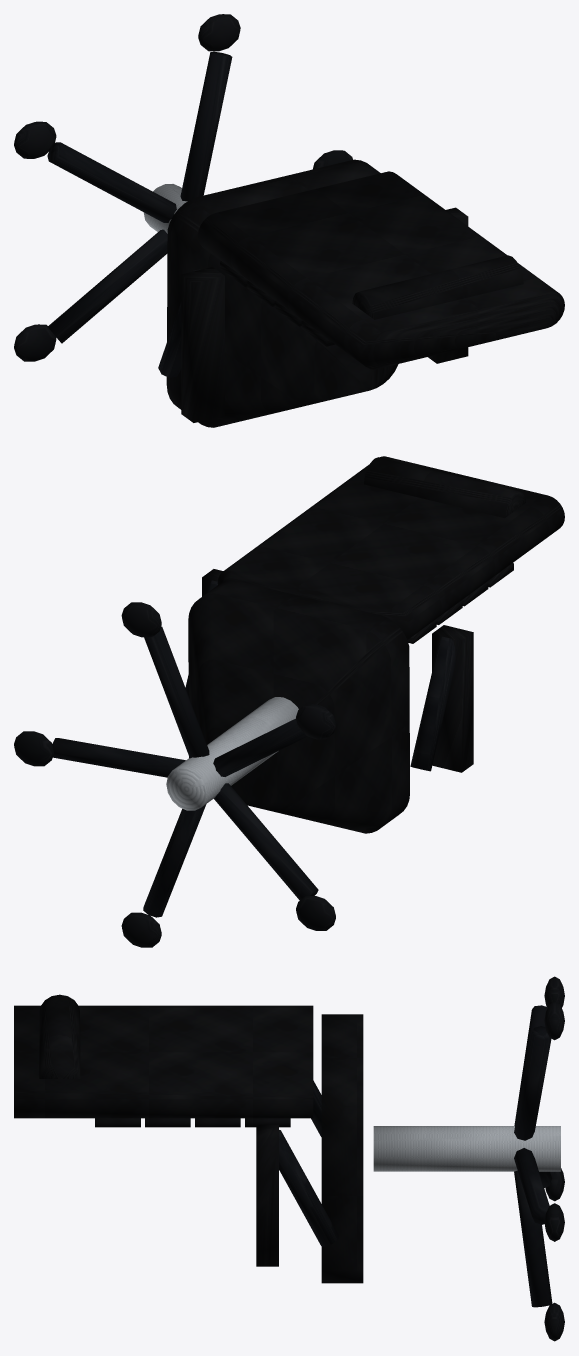
Rendered from CHAIR_EXECUTIVE_HIGHBACK_001.glb.
The picture shows the model from 3 angles, top to bottom: view 1: azimuth 30°, elevation 25°; view 2: azimuth 150°, elevation 25°; view 3: azimuth 270°, elevation 25°; orthographic projection. The views are drawn at different scales.
Visible parts, largest first — view 1: back_001, seat_000, armrest_014, headrest_017, star_base_005, star_base_009, star_base_007, caster_006, caster_008, caster_010, armrest_post_013, gas_lift_002 (+1 smaller); view 2: seat_000, back_001, gas_lift_002, headrest_017, armrest_014, star_base_009, armrest_post_013, star_base_005, star_base_003, star_base_011, star_base_007, caster_012 (+4 smaller); view 3: back_001, seat_000, gas_lift_002, headrest_017, armrest_016, star_base_005, armrest_post_015, star_base_011, star_base_003, star_base_007, caster_006, caster_012 (+5 smaller).
Part boxes in pixels (x1,y1,x2,y2): back_001: [198, 171, 564, 369]; seat_000: [166, 159, 398, 427]; armrest_014: [181, 267, 224, 422]; headrest_017: [352, 255, 523, 319]; star_base_005: [180, 51, 232, 201]; star_base_009: [47, 229, 167, 343]; star_base_007: [47, 142, 176, 222]; caster_006: [198, 14, 240, 51]; caster_008: [14, 121, 56, 158]; caster_010: [14, 324, 56, 361]; armrest_post_013: [158, 269, 200, 377]; gas_lift_002: [143, 184, 187, 233]; seat_000: [188, 580, 409, 833]; back_001: [217, 456, 564, 639]; gas_lift_002: [166, 697, 298, 810]; headrest_017: [364, 457, 525, 518]; armrest_014: [432, 625, 473, 772]; star_base_009: [214, 783, 318, 900]; armrest_post_013: [410, 636, 455, 771]; star_base_005: [144, 626, 209, 758]; star_base_003: [52, 738, 185, 777]; star_base_011: [143, 804, 206, 917]; star_base_007: [213, 718, 307, 776]; caster_012: [121, 912, 161, 947]; back_001: [14, 1005, 313, 1118]; seat_000: [321, 1014, 363, 1283]; gas_lift_002: [373, 1126, 560, 1171]; headrest_017: [39, 994, 80, 1078]; armrest_016: [256, 1124, 278, 1266]; star_base_005: [514, 1026, 551, 1140]; armrest_post_015: [279, 1130, 338, 1246]; star_base_011: [514, 1170, 552, 1307]; star_base_003: [514, 1148, 549, 1224]; star_base_007: [514, 1005, 547, 1125]; caster_006: [544, 1001, 564, 1040]; caster_012: [544, 1302, 564, 1341].
Size of the model in its own units: 0.8678 by 0.8889 by 1.32.
4 materials, 4 textured.
